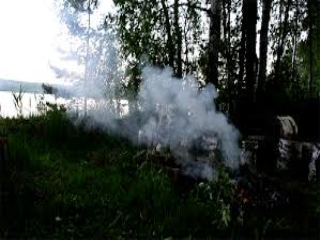smoke: (126, 65, 251, 178)
